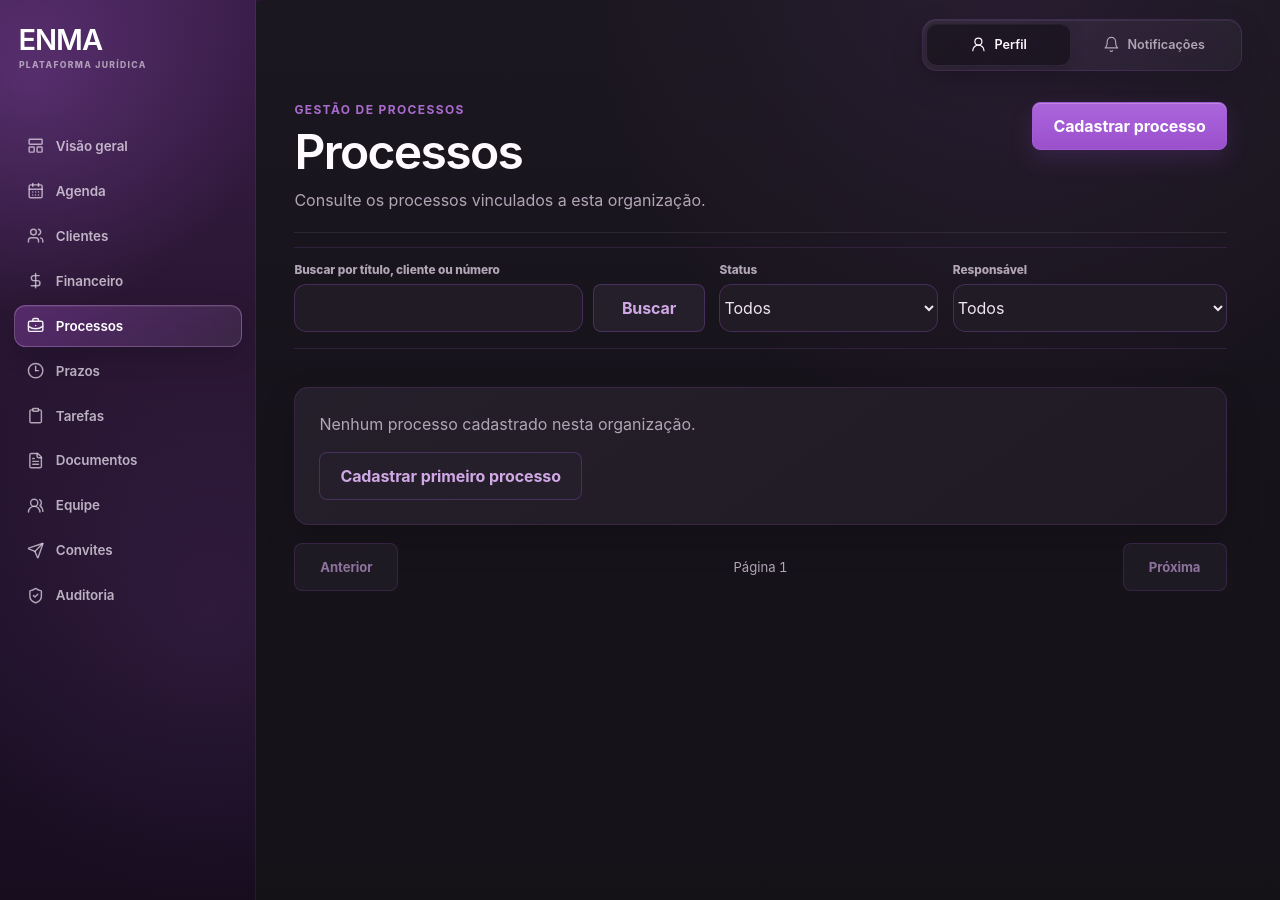
Test: Processes D1 flow › ClientLookup_SearchLoadMoreAndSelection_UsesServerPagesAndDiscardsPriorSearch
Expected: the text "Nenhum processo cadastrado nesta organização." is shown, [319, 414, 696, 434]
Click the button "Cadastrar processo" at (1130, 126), box [1032, 102, 1227, 150]
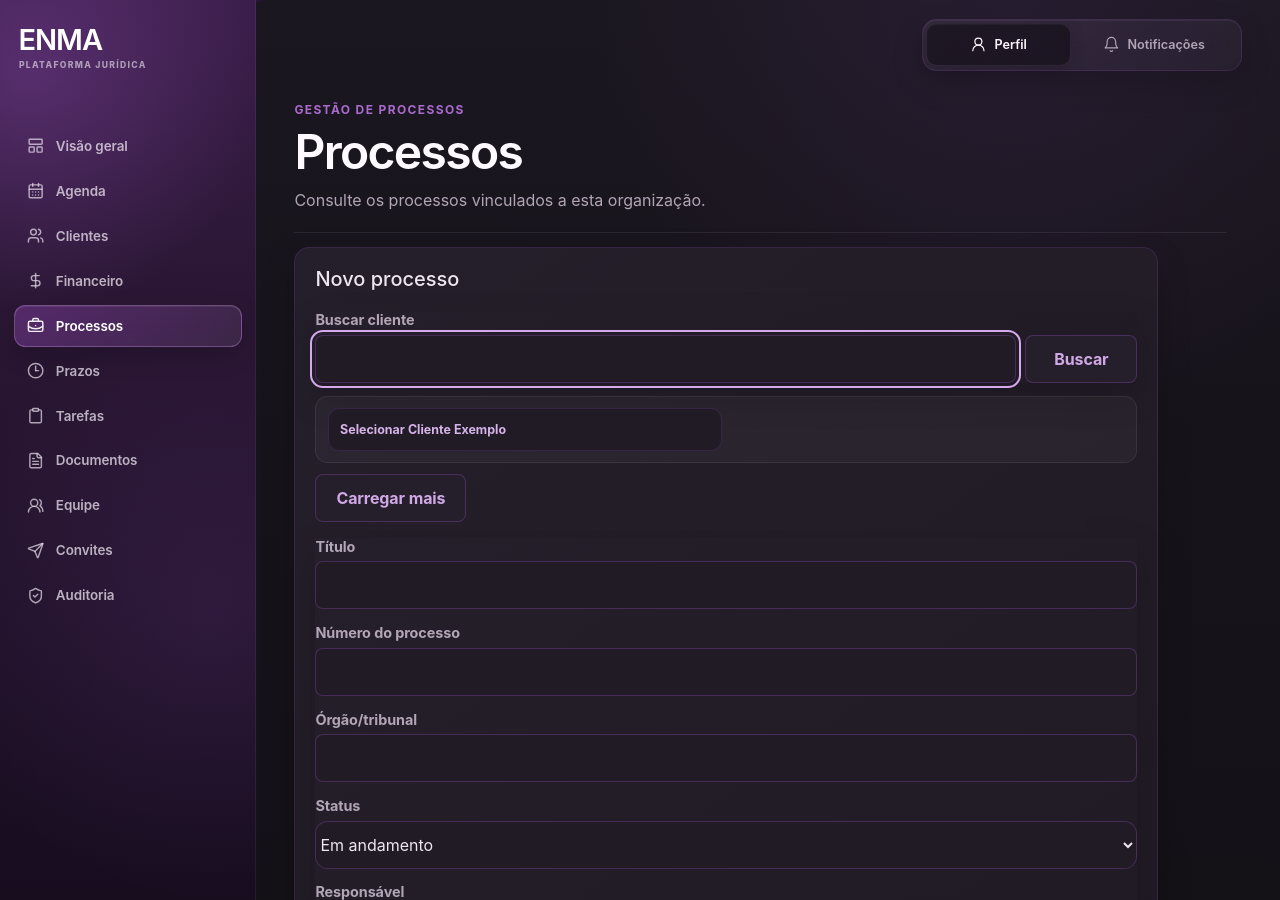
Result: the heading "Novo processo" is shown at [315, 267, 460, 291]
Click the button "Carregar mais" at (391, 498), box [315, 474, 466, 522]
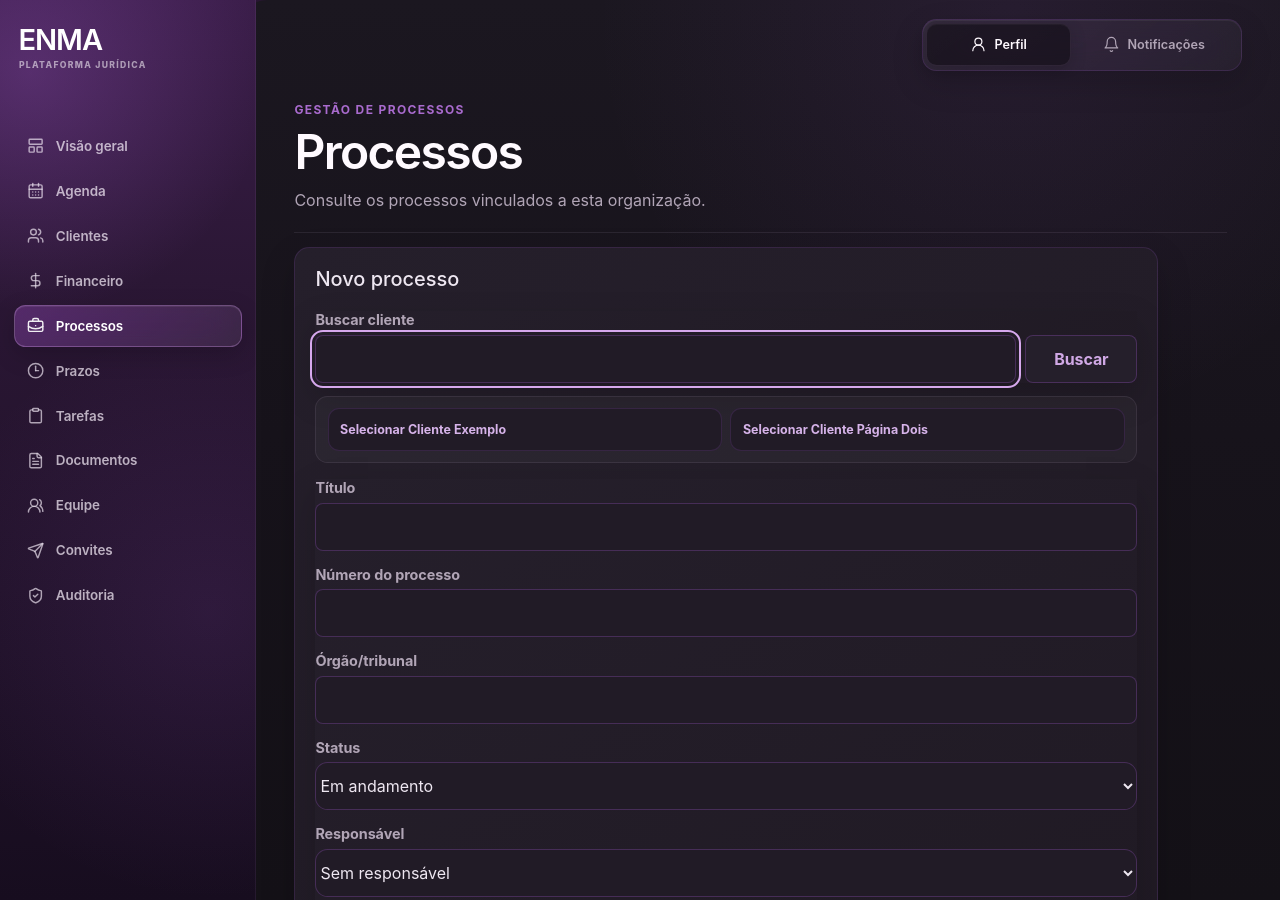
Click the button "Selecionar Cliente Página Dois" at (928, 430), box [730, 408, 1125, 451]
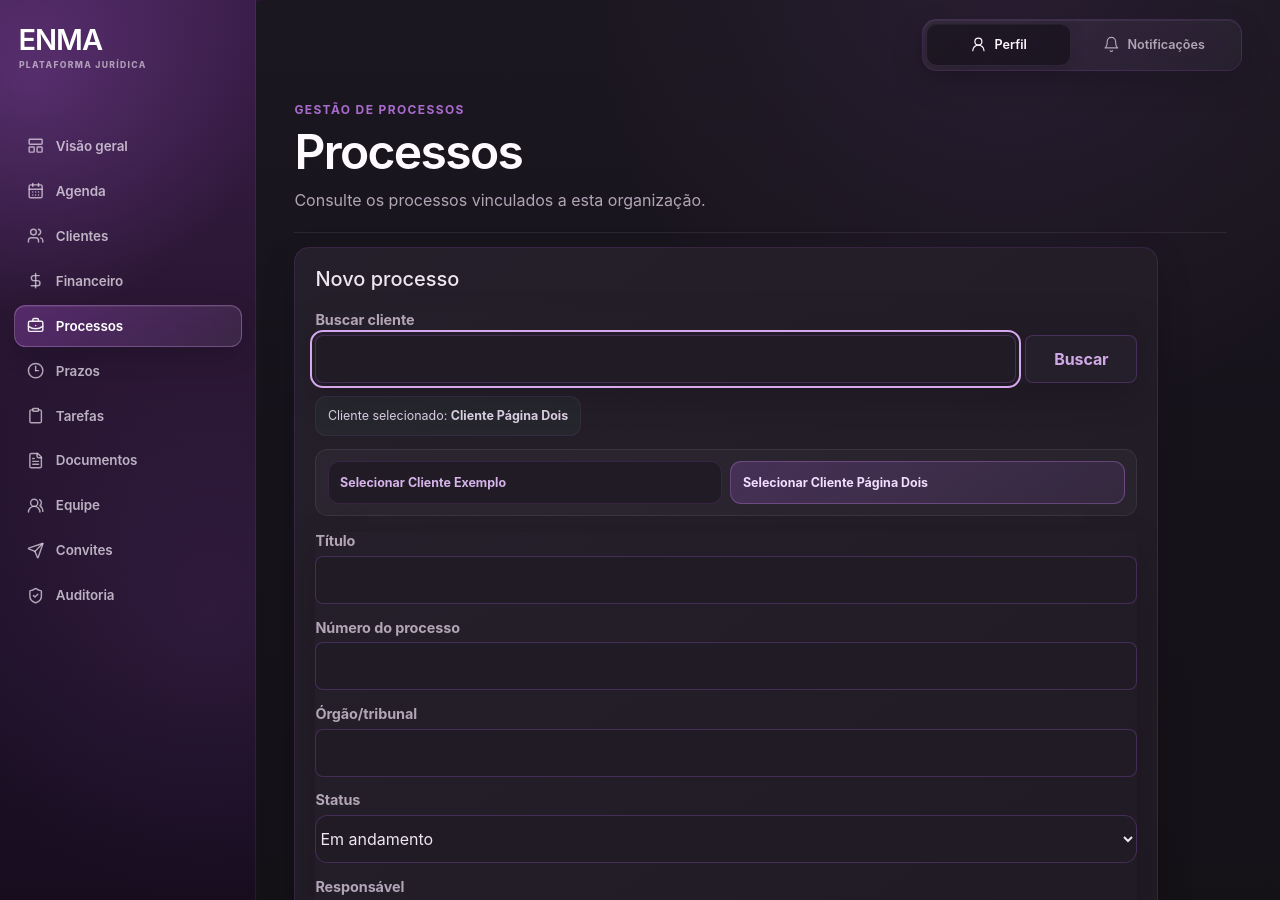
Result: the text "Cliente selecionado: Cliente Página Dois" is shown at [315, 396, 581, 436]
Type "  Pesquisado & especial  " into the field labelled "Buscar cliente" at (666, 359), box [315, 335, 1016, 383]
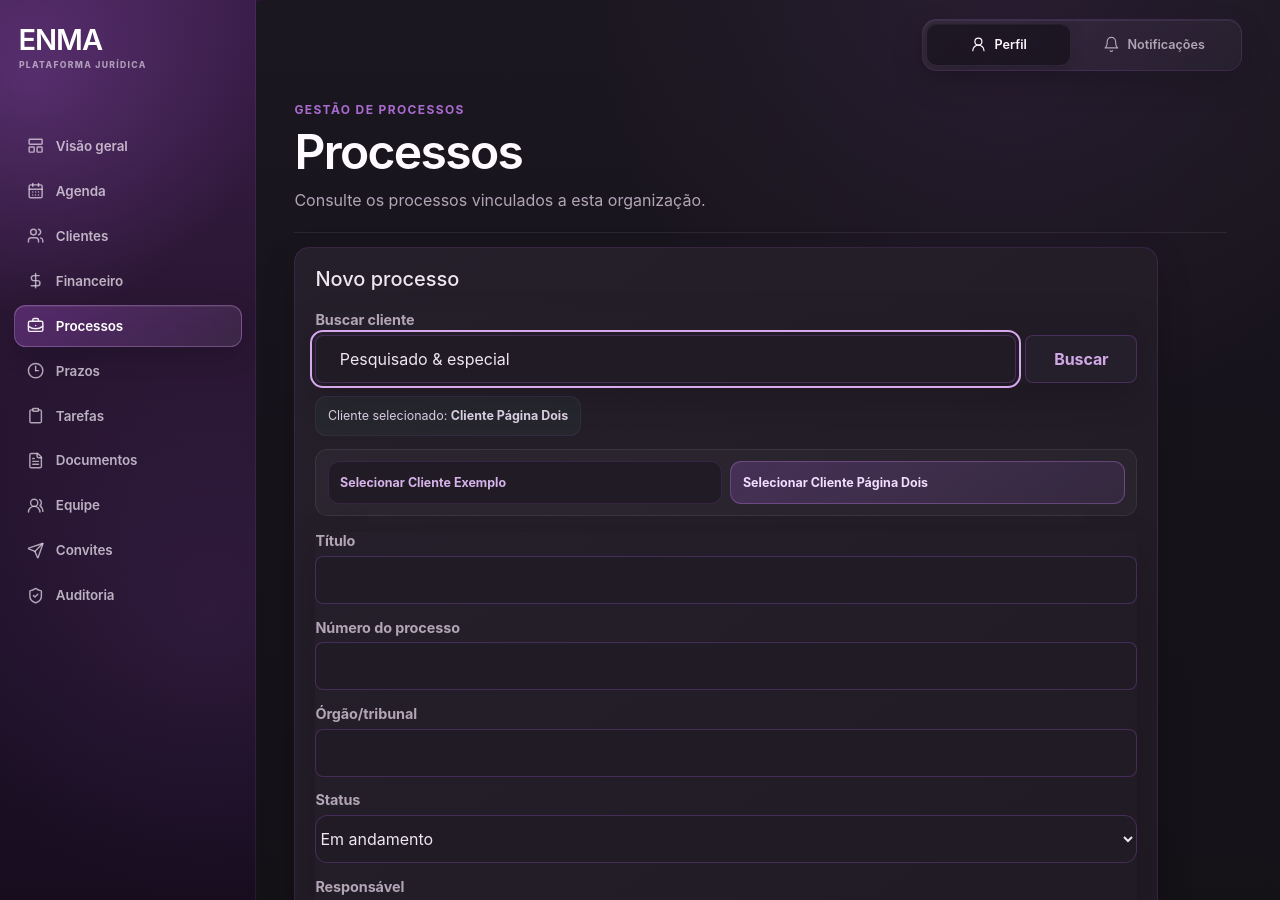
Click the button "Buscar" at (1081, 359), box [1025, 335, 1137, 383]
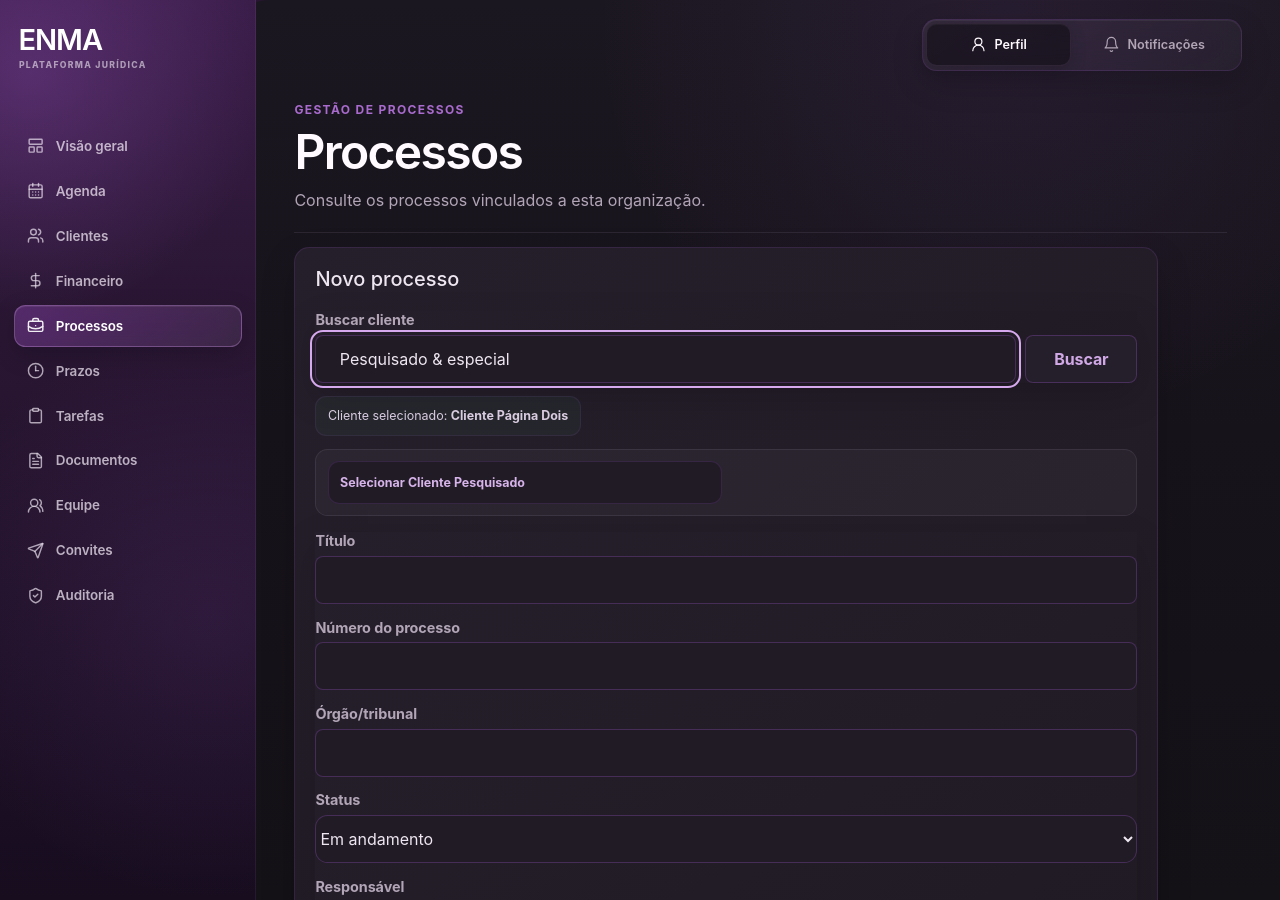
Click the button "Selecionar Cliente Pesquisado" at (525, 482), box [328, 461, 722, 504]
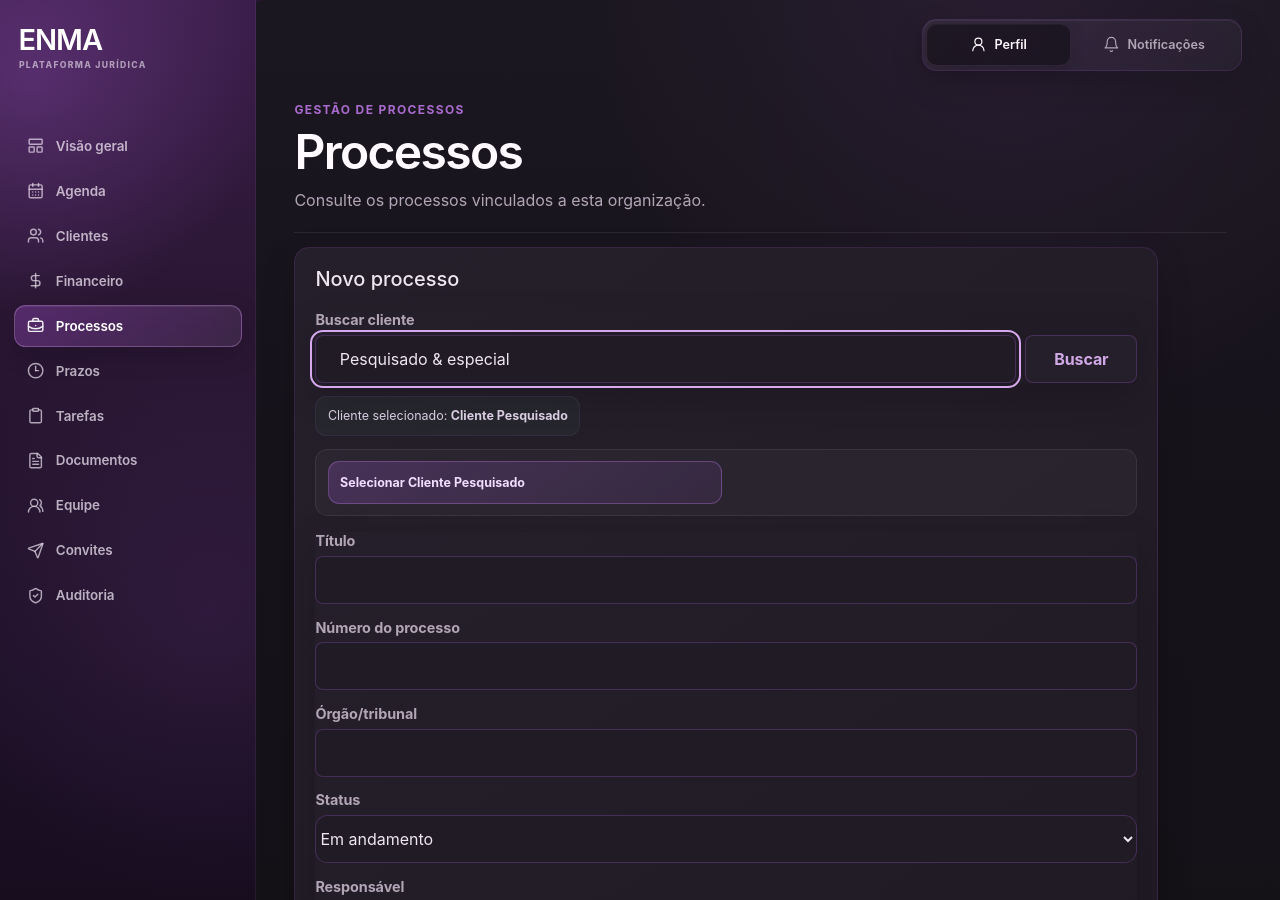
Result: the text "Cliente selecionado: Cliente Pesquisado" is shown at [315, 396, 580, 436]
